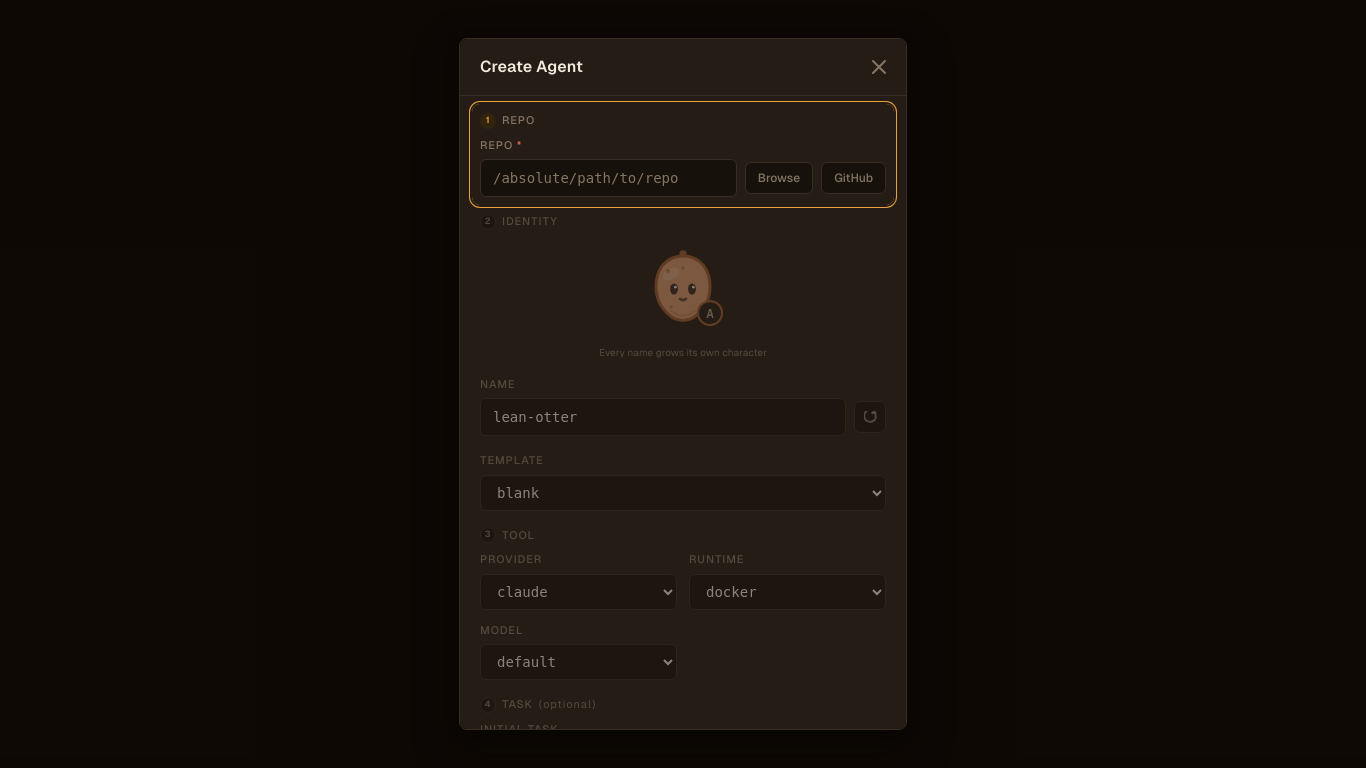
Test: CreateAgentModal GitHub discover › keeps Clone disabled until a repo is selected
Click the button "GitHub".
click(854, 178)  # box x1=821 y1=162 x2=886 y2=194
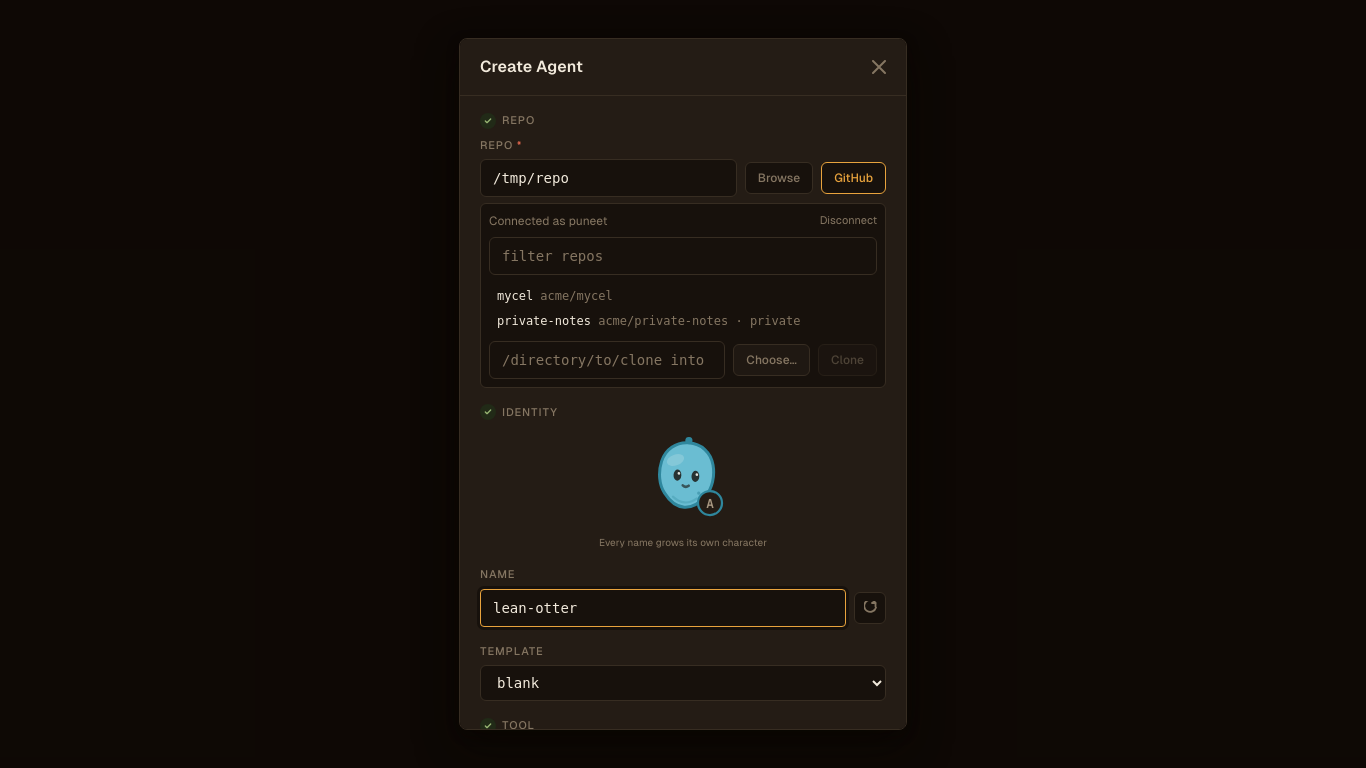
Now the element with test id "create-agent-github-panel" is shown, box x1=480 y1=203 x2=886 y2=388
Now the text "acme/mycel" is shown
Now the button "Clone" is disabled, box x1=818 y1=344 x2=877 y2=376
Click the text "acme/mycel".
click(577, 296)  # box x1=540 y1=289 x2=613 y2=303
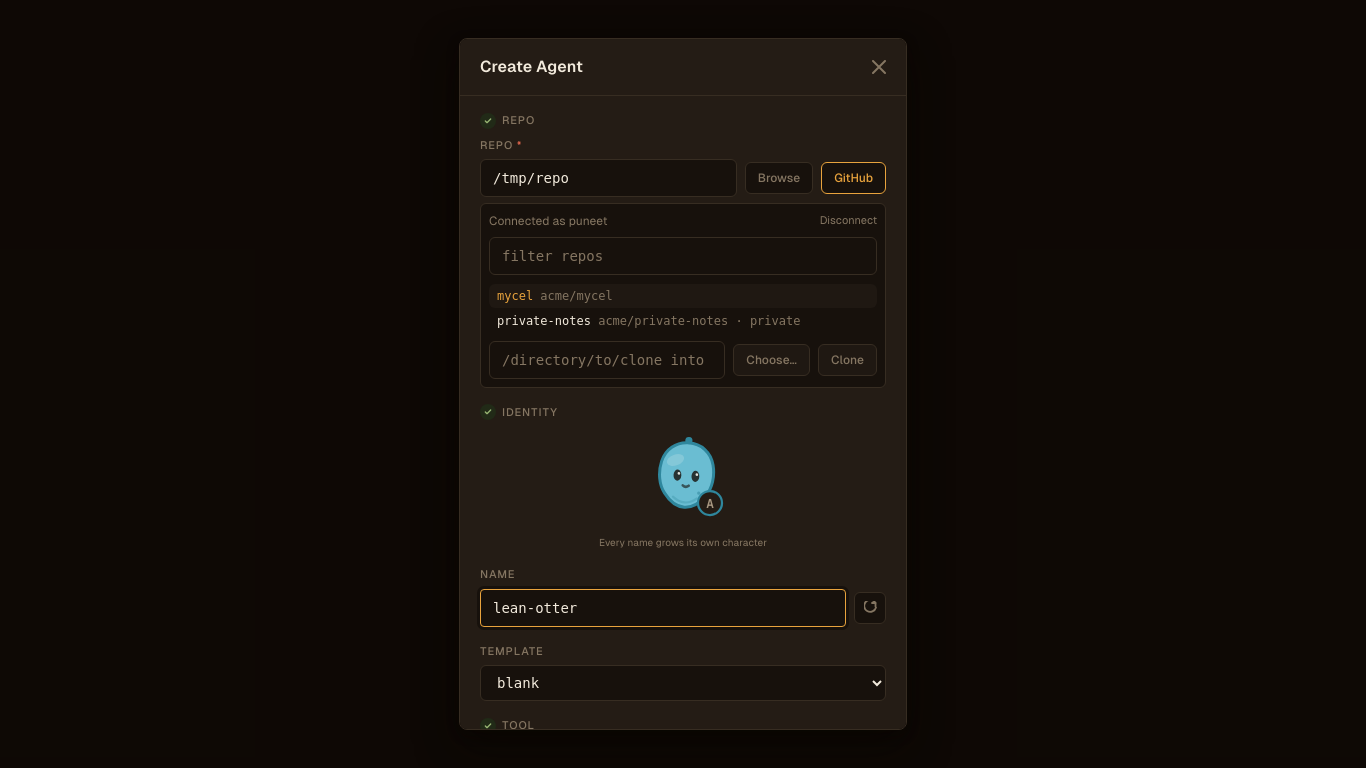
Now the button "Clone" is enabled, box x1=818 y1=344 x2=877 y2=376
